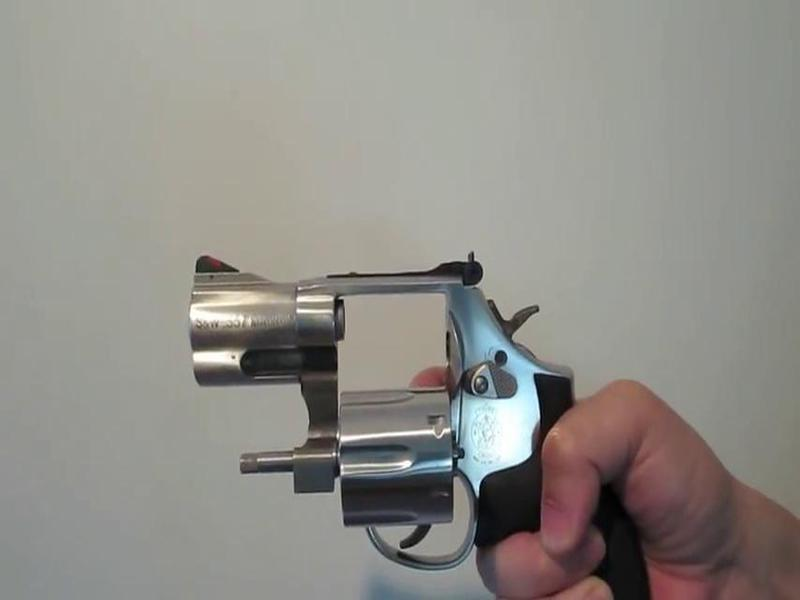Revolver: (185, 244, 626, 600)
